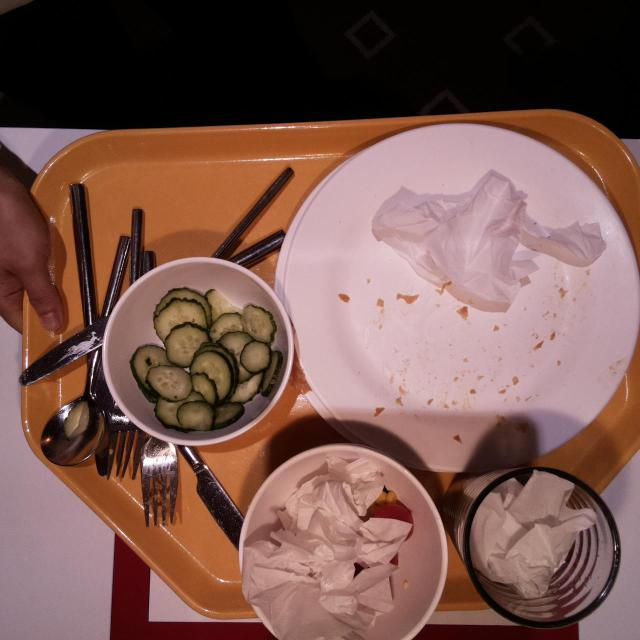Vegetable: (130, 291, 282, 434)
